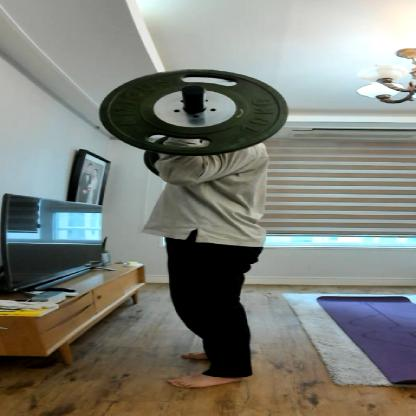Barbell: (92, 63, 297, 159)
